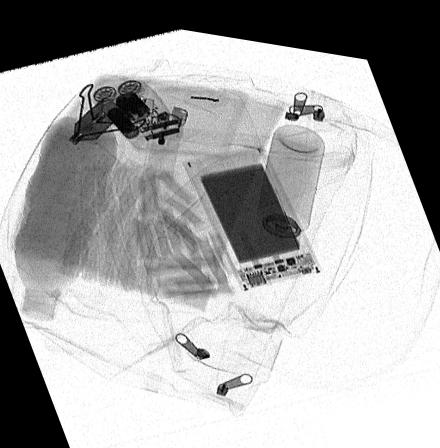Lighter: (135, 94, 186, 195)
Powerbank: (180, 135, 320, 283)
Sprayer: (254, 113, 323, 252)
